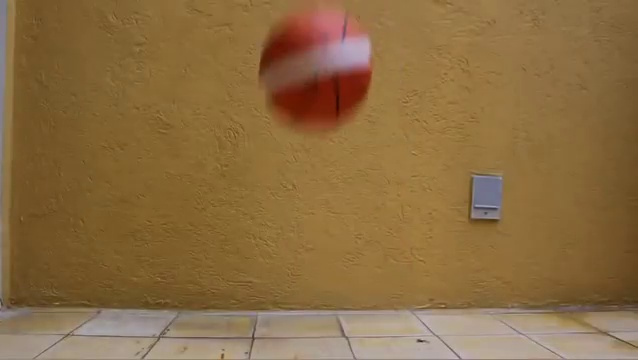ball: (255, 10, 377, 139)
